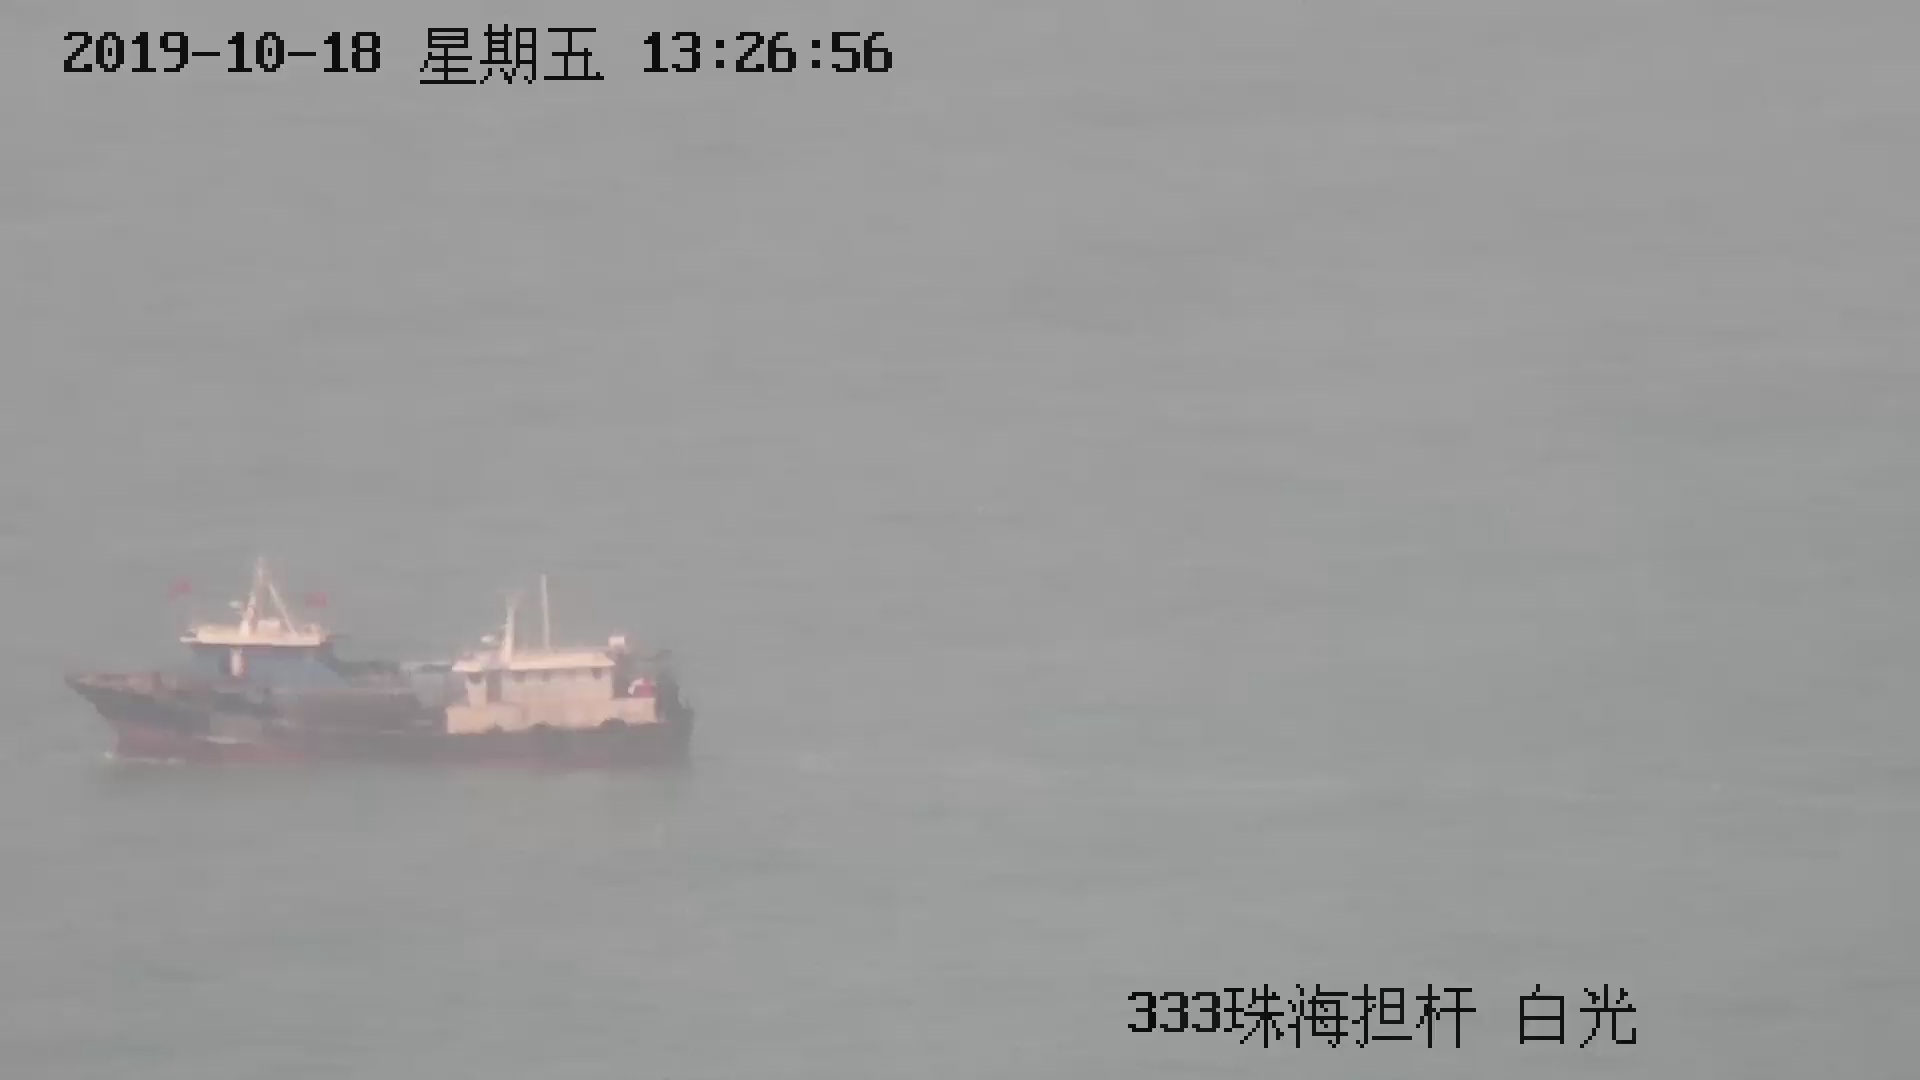ship: (71, 560, 691, 777)
